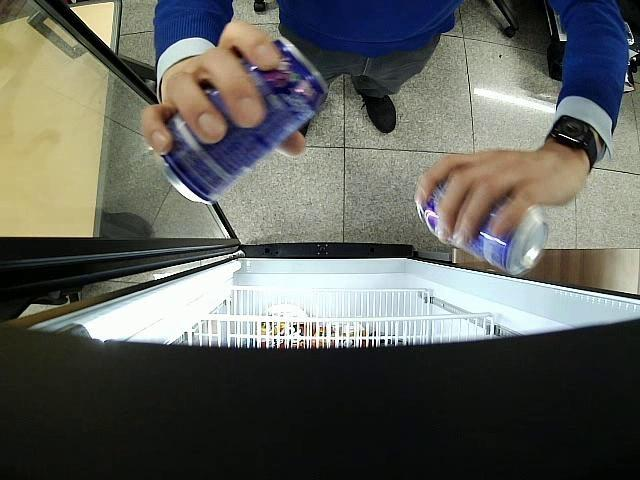14_welchsGrape: (162, 38, 330, 204), (417, 177, 550, 276)
